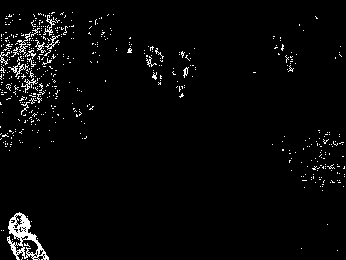person: (7, 212, 48, 260)
